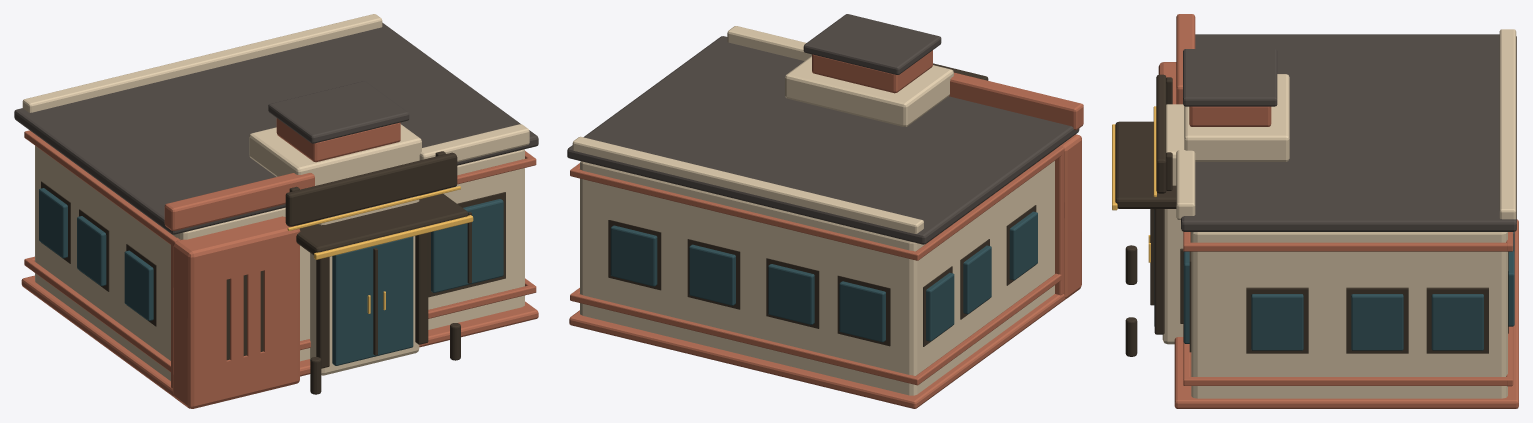
File: SilverScreen_CastingOffice.fbx
3 renders of one model, left to right at view 1: azimuth 30°, elevation 25°; view 2: azimuth 150°, elevation 25°; view 3: azimuth 270°, elevation 25°, orthographic. The views are drawn at different scales.
Parts seen in each view (by area): view 1: Casting_Roof, Casting_Body, Casting_Trim, Casting_Windows, Casting_Doors, Casting_Sign, Casting_Trim.001; view 2: Casting_Roof, Casting_Body, Casting_Trim, Casting_Windows; view 3: Casting_Roof, Casting_Body, Casting_Trim, Casting_Windows, Casting_Sign.
Boxes of the visible parts, x1,y1,x2,y2 form: Casting_Roof: [14, 14, 538, 234]; Casting_Body: [21, 146, 538, 408]; Casting_Trim: [24, 130, 536, 394]; Casting_Windows: [39, 188, 503, 320]; Casting_Doors: [332, 236, 413, 365]; Casting_Sign: [285, 151, 460, 230]; Casting_Trim.001: [226, 270, 263, 360]; Casting_Roof: [567, 14, 1083, 244]; Casting_Body: [569, 134, 1081, 408]; Casting_Trim: [570, 146, 1064, 385]; Casting_Windows: [610, 211, 1037, 342]; Casting_Roof: [1176, 14, 1516, 231]; Casting_Body: [1158, 62, 1518, 408]; Casting_Trim: [1112, 121, 1513, 386]; Casting_Windows: [1183, 232, 1514, 350]; Casting_Sign: [1153, 74, 1172, 197].
Size of the model in its own units: 8.1 by 4.91 by 7.33.
